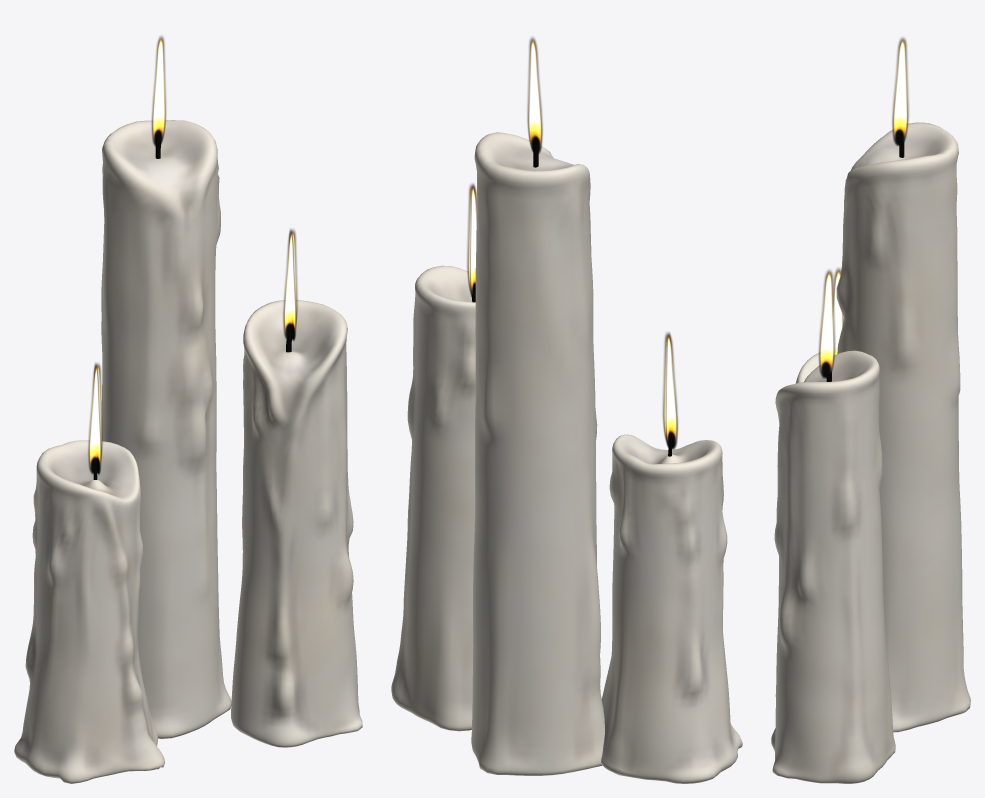
Rendered from candles.glb.
3 views of the same model, side by side, from view 1: azimuth 30°, elevation 25°; view 2: azimuth 150°, elevation 25°; view 3: azimuth 270°, elevation 25° (orthographic). The views are drawn at different scales.
Visible parts, largest first — view 1: CandleSet01_Stick02_geo, CandleSet01_Stick03_geo, CandleSet01_Stick01_geo, CandleSet01_Stick01_Flame_geo, CandleSet01_Stick03_Flame_geo, CandleSet01_Stick02_Flame_geo; view 2: CandleSet01_Stick02_geo, CandleSet01_Stick01_geo, CandleSet01_Stick03_geo, CandleSet01_Stick01_Flame_geo, CandleSet01_Stick02_Flame_geo, CandleSet01_Stick03_Flame_geo; view 3: CandleSet01_Stick02_geo, CandleSet01_Stick03_geo, CandleSet01_Stick03_Flame_geo, CandleSet01_Stick02_Flame_geo, CandleSet01_Stick01_Flame_geo.
Part boxes in pixels (<box>): CandleSet01_Stick02_geo: <box>101,120,231,738</box>; CandleSet01_Stick03_geo: <box>231,300,362,747</box>; CandleSet01_Stick01_geo: <box>14,440,164,783</box>; CandleSet01_Stick01_Flame_geo: <box>88,363,102,474</box>; CandleSet01_Stick03_Flame_geo: <box>283,229,297,340</box>; CandleSet01_Stick02_Flame_geo: <box>151,36,166,146</box>; CandleSet01_Stick02_geo: <box>471,132,604,775</box>; CandleSet01_Stick01_geo: <box>601,434,742,783</box>; CandleSet01_Stick03_geo: <box>391,265,475,731</box>; CandleSet01_Stick01_Flame_geo: <box>663,332,677,449</box>; CandleSet01_Stick02_Flame_geo: <box>527,37,542,153</box>; CandleSet01_Stick03_Flame_geo: <box>467,183,476,297</box>; CandleSet01_Stick02_geo: <box>836,122,970,732</box>; CandleSet01_Stick03_geo: <box>771,350,895,783</box>; CandleSet01_Stick03_Flame_geo: <box>818,270,835,378</box>; CandleSet01_Stick02_Flame_geo: <box>892,37,908,146</box>; CandleSet01_Stick01_Flame_geo: <box>832,268,843,355</box>.
Size of the model in its own units: 0.1522 by 0.3185 by 0.084.
Materials: 3 (2 with a texture image).
